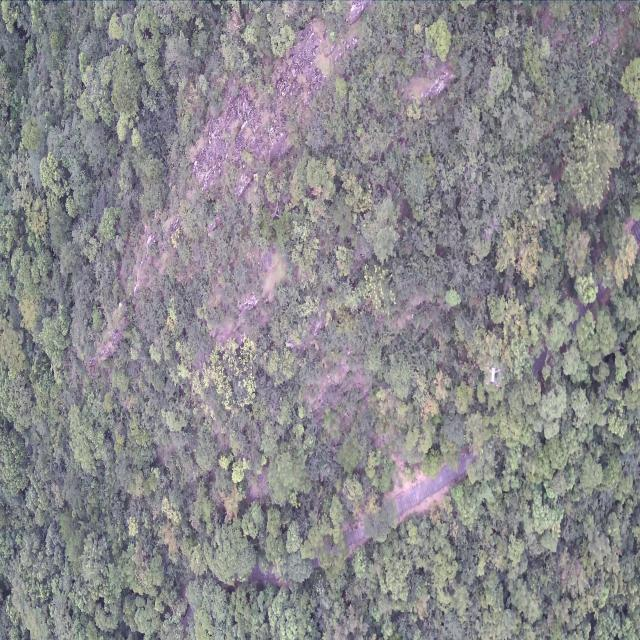drone: (486, 365, 501, 387)
